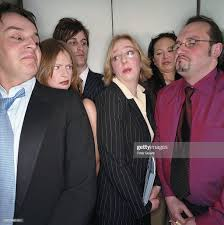face: (2, 19, 40, 80), (175, 31, 223, 77), (106, 43, 147, 86), (151, 39, 182, 78), (65, 30, 90, 68), (52, 57, 75, 96)
